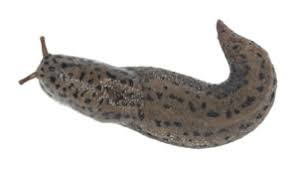slug: (17, 18, 283, 148)
